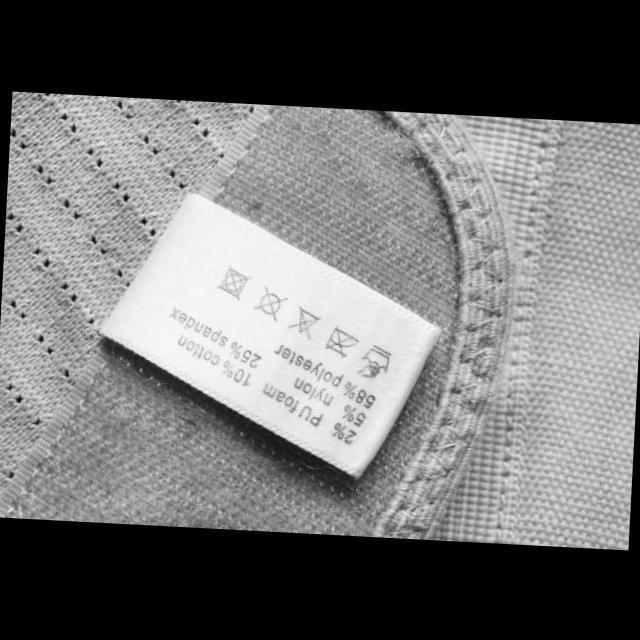DN_bleach: (285, 303, 325, 342)
DN_dry_clean: (250, 282, 290, 323)
DN_iron: (321, 323, 361, 361)
DN_tumble_dry: (214, 262, 254, 302)
hand_wash: (352, 341, 392, 382)
